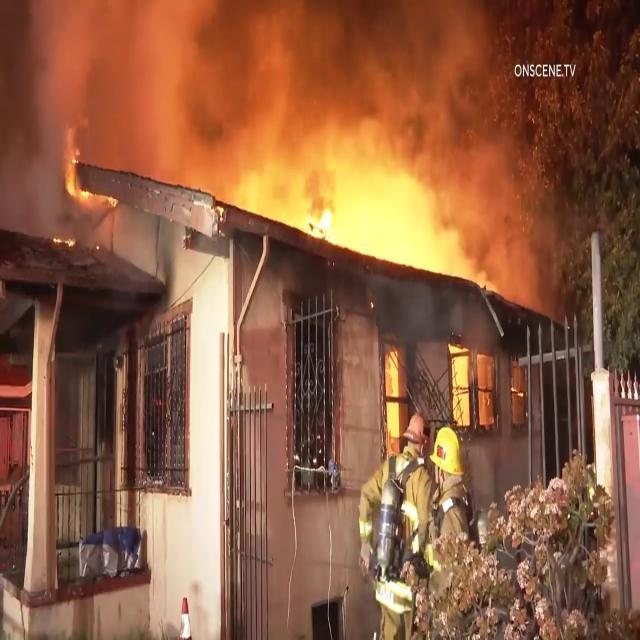Fire: (311, 134, 470, 270)
Smoke: (4, 8, 216, 152)
